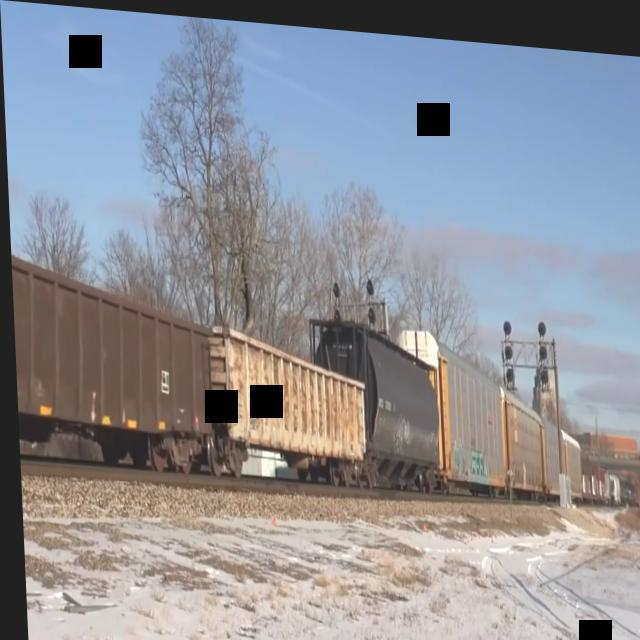autorack: (394, 315, 505, 495), (501, 374, 541, 494)
gondola: (9, 241, 215, 479), (207, 314, 367, 491)
tank: (303, 300, 443, 494)
